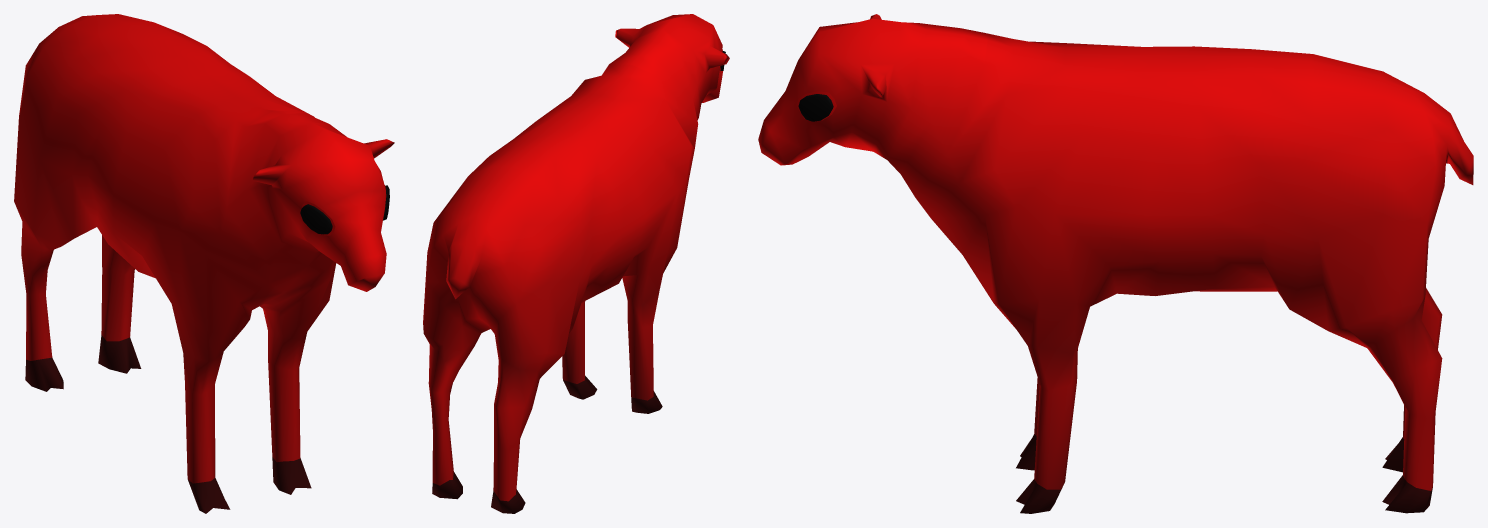
Rendered from Animals_Sheep.fbx.
The picture shows the model from 3 angles, left to right: view 1: azimuth 30°, elevation 25°; view 2: azimuth 150°, elevation 25°; view 3: azimuth 270°, elevation 25°; orthographic projection. The views are drawn at different scales.
Visible parts, largest first — view 1: base; view 2: base; view 3: base.
Boxes of the visible parts, x1=… form: base: x1=14, y1=14, x2=394, y2=513; base: x1=423, y1=14, x2=729, y2=513; base: x1=758, y1=14, x2=1473, y2=513.
Bounding box in the file's own units: 40.59 × 91.48 × 127.
